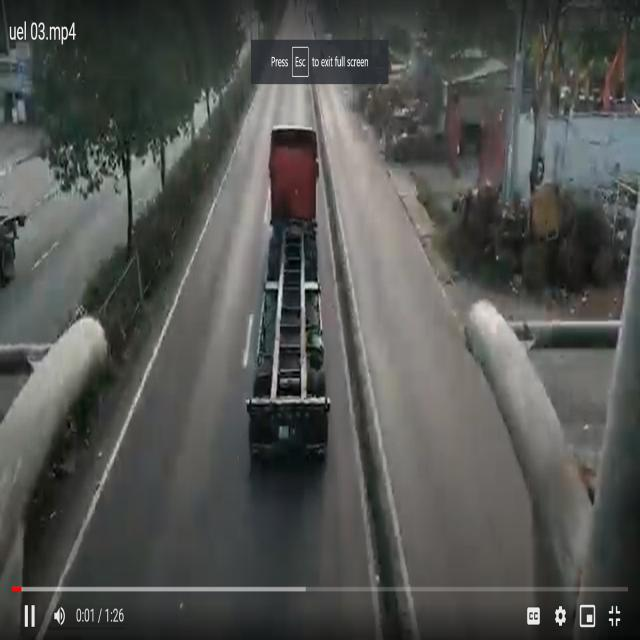truck: (257, 119, 327, 464)
